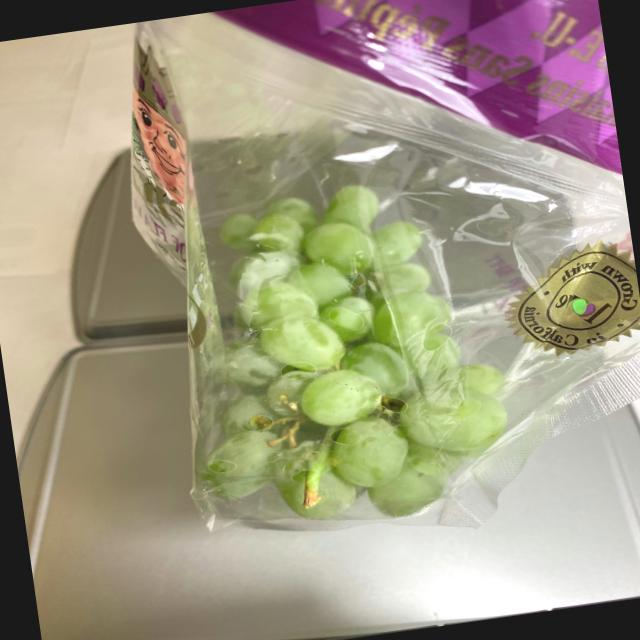grapes: (190, 158, 516, 534)
